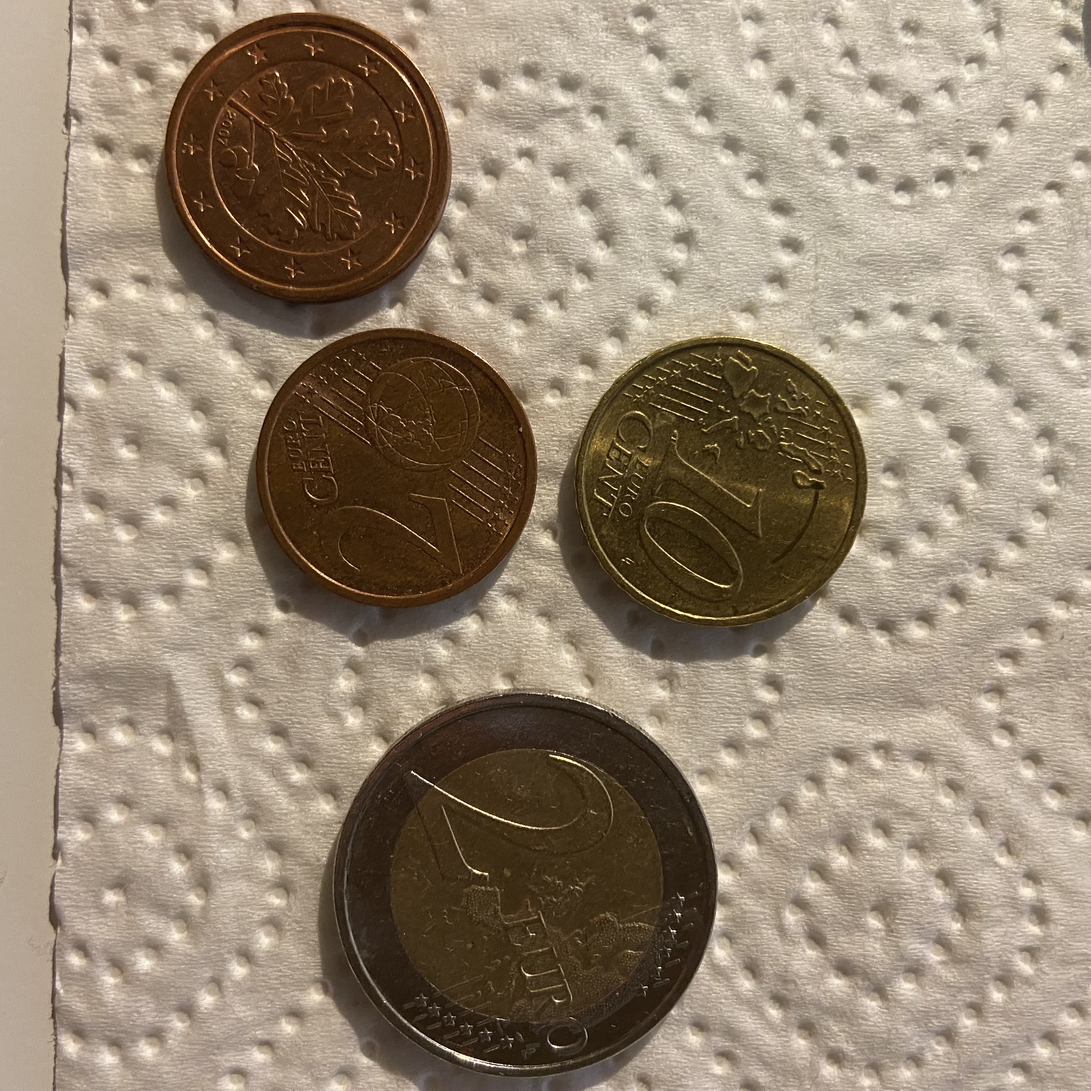10 cent: (575, 338, 867, 626)
2 cent: (165, 14, 451, 302), (257, 329, 536, 607)
2 euro: (318, 685, 730, 1091)
